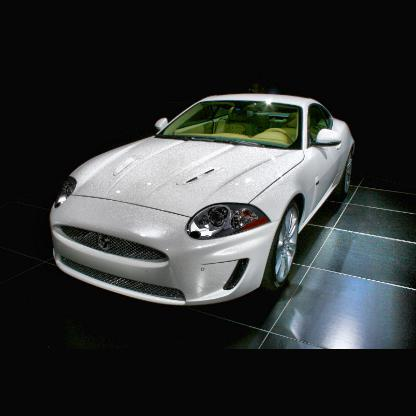Jaguar XK XKR 2012: (51, 96, 355, 307)
